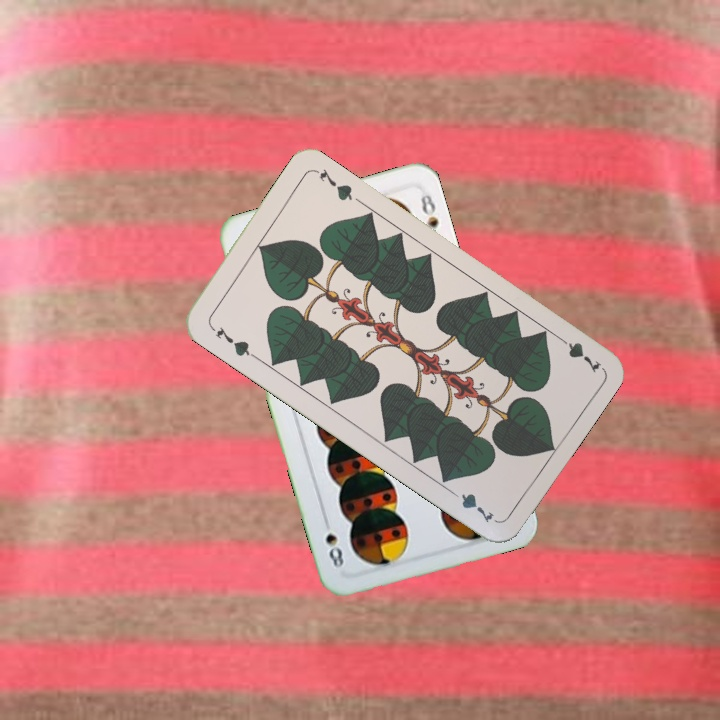G7: (551, 330, 604, 376), (210, 322, 258, 360)
